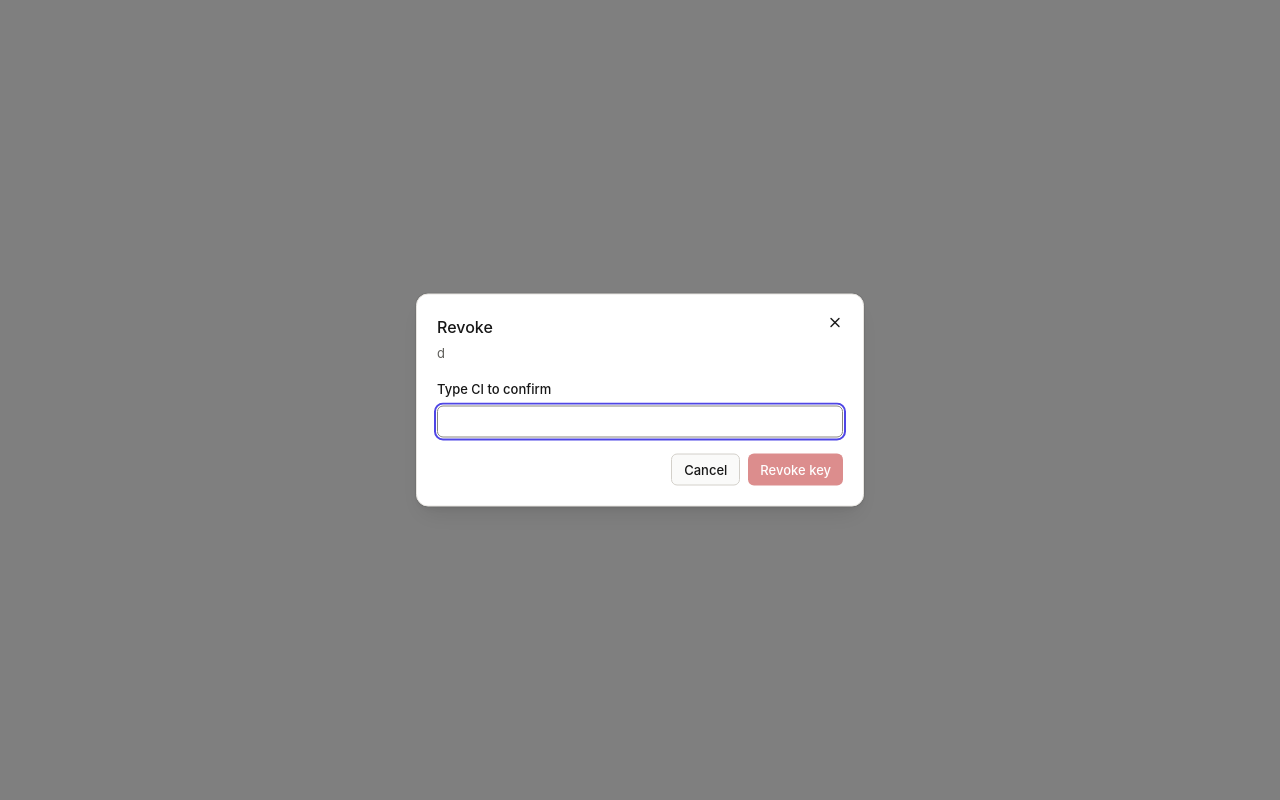
Test: setup › TypeNameConfirm enables the action only for the exact name
This screenshot has width=1280, height=800.
Check: the button "Revoke key" is disabled, box [748,454,843,486]
Type "CI" into the field. click: (640, 422)
box: [437,406,843,438]
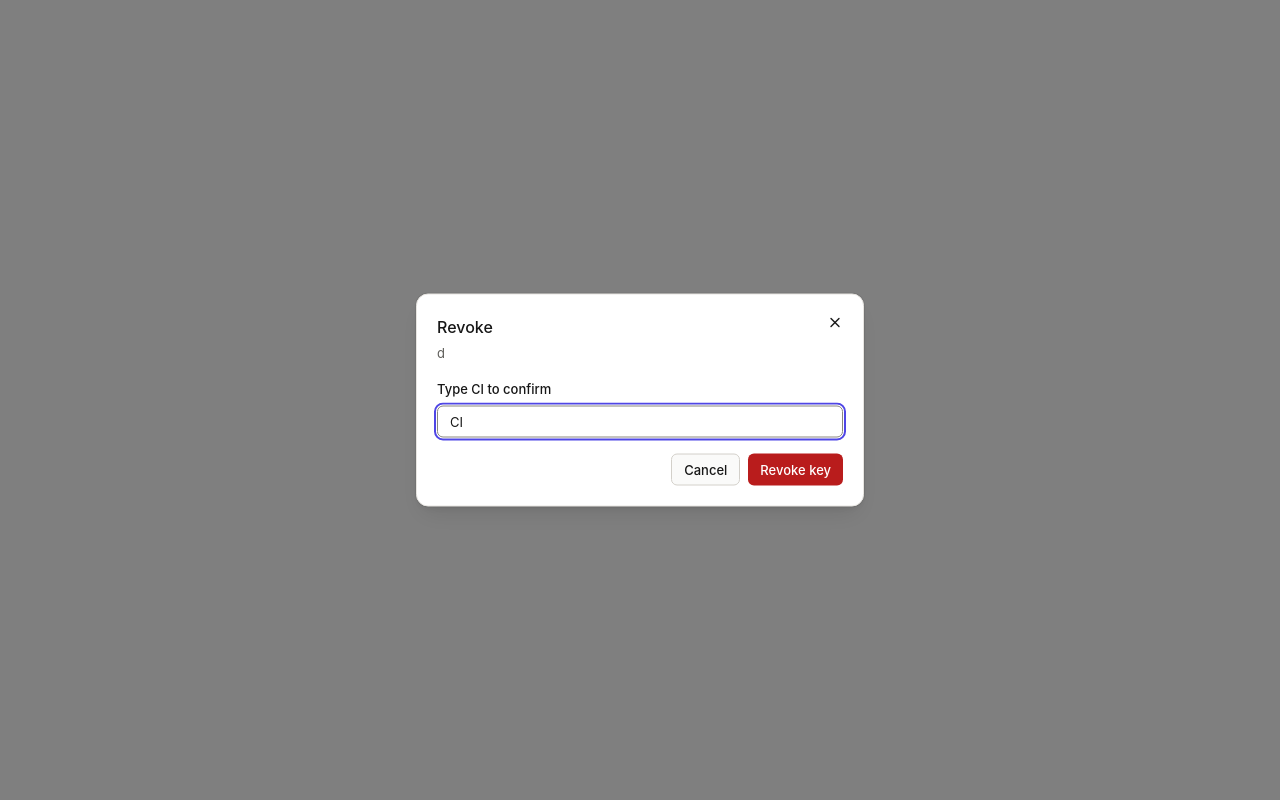
Check: the button "Revoke key" is enabled, box [748,454,843,486]
